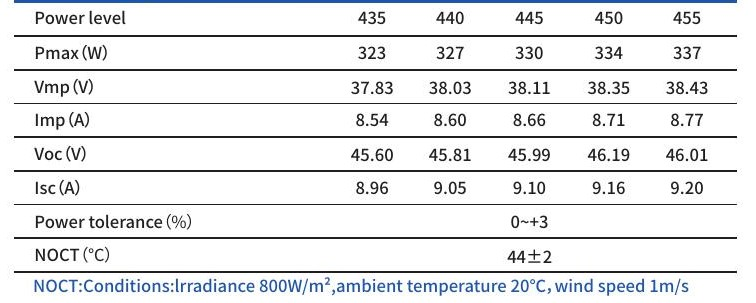table: (1, 1, 756, 280)
table column: (18, 3, 282, 275), (493, 3, 575, 277), (658, 1, 736, 275), (413, 4, 485, 278), (331, 3, 401, 276), (583, 1, 652, 277)
table row: (15, 73, 738, 102), (13, 241, 741, 269), (14, 174, 740, 202), (14, 207, 739, 235), (15, 39, 738, 67), (15, 106, 738, 134), (14, 140, 740, 167), (14, 6, 737, 32)
table spanning cell: (327, 209, 738, 237), (327, 243, 739, 270)
